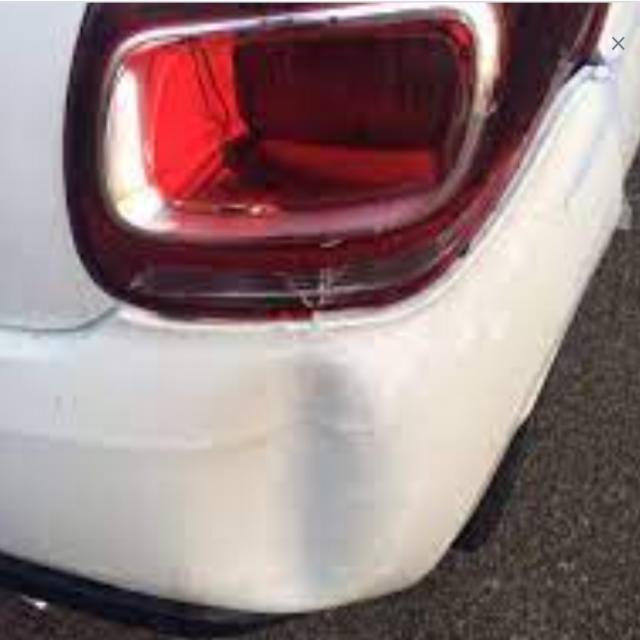dents: (208, 348, 418, 606)
